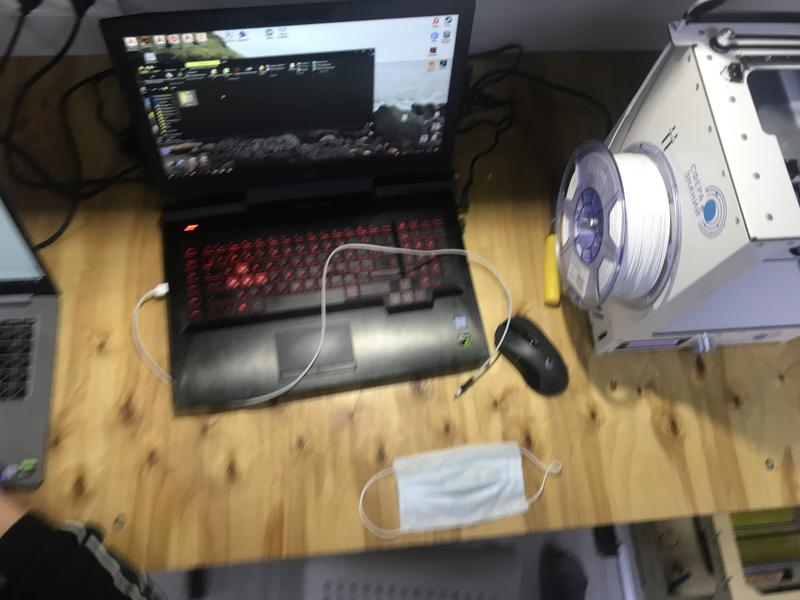medical_mask: (359, 441, 562, 537)
